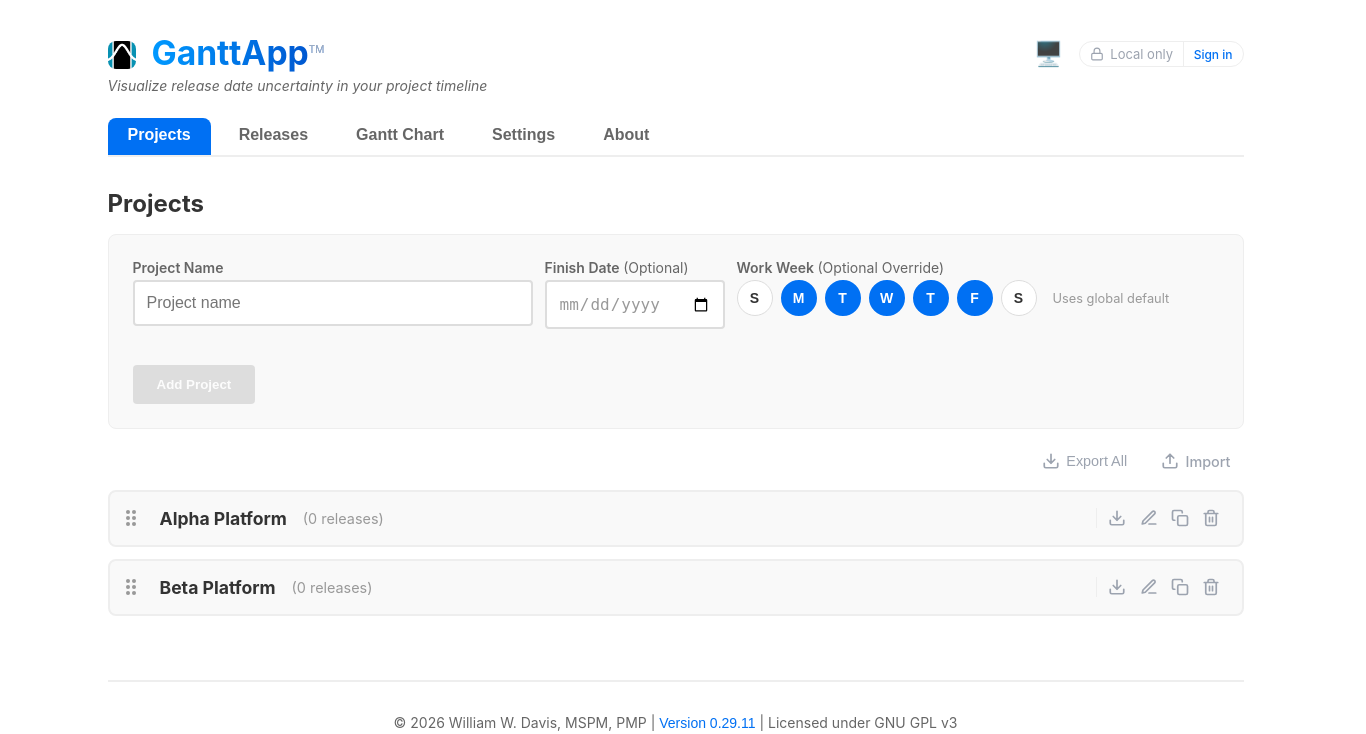
Test: the Projects tab when an import or a delete moves the selected project › keeps a draft in the new-project form when the selected project is deleted
The width and height of the screenshot is (1366, 734).
Check: the text "Alpha Platform" is shown, box top-left (160, 508), bottom-right (287, 529)
Type "Draft Gamma" into the field with placeholder "Project Name" at {"x": 332, "y": 303}, box top-left (132, 280), bottom-right (532, 326)
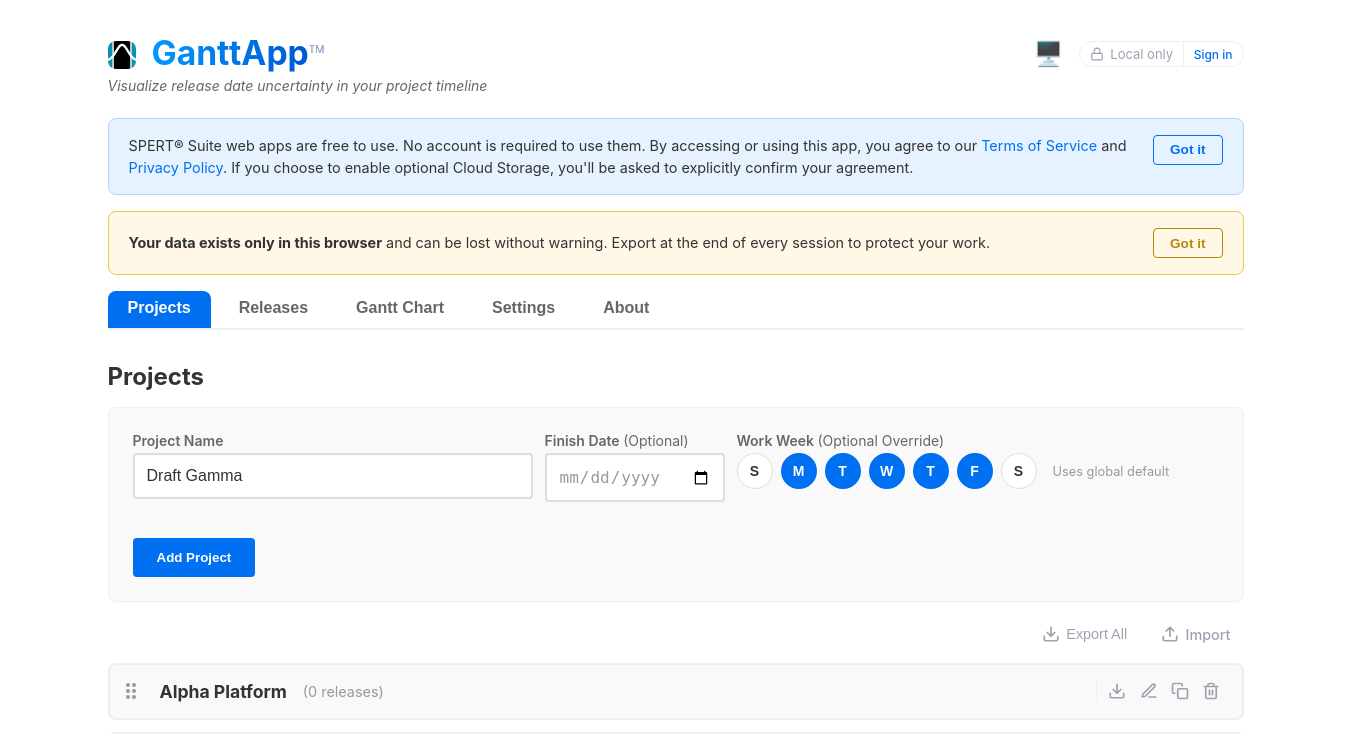
Click the 1st button named "Delete project" at {"x": 1211, "y": 691}, box top-left (1196, 677), bottom-right (1226, 706)
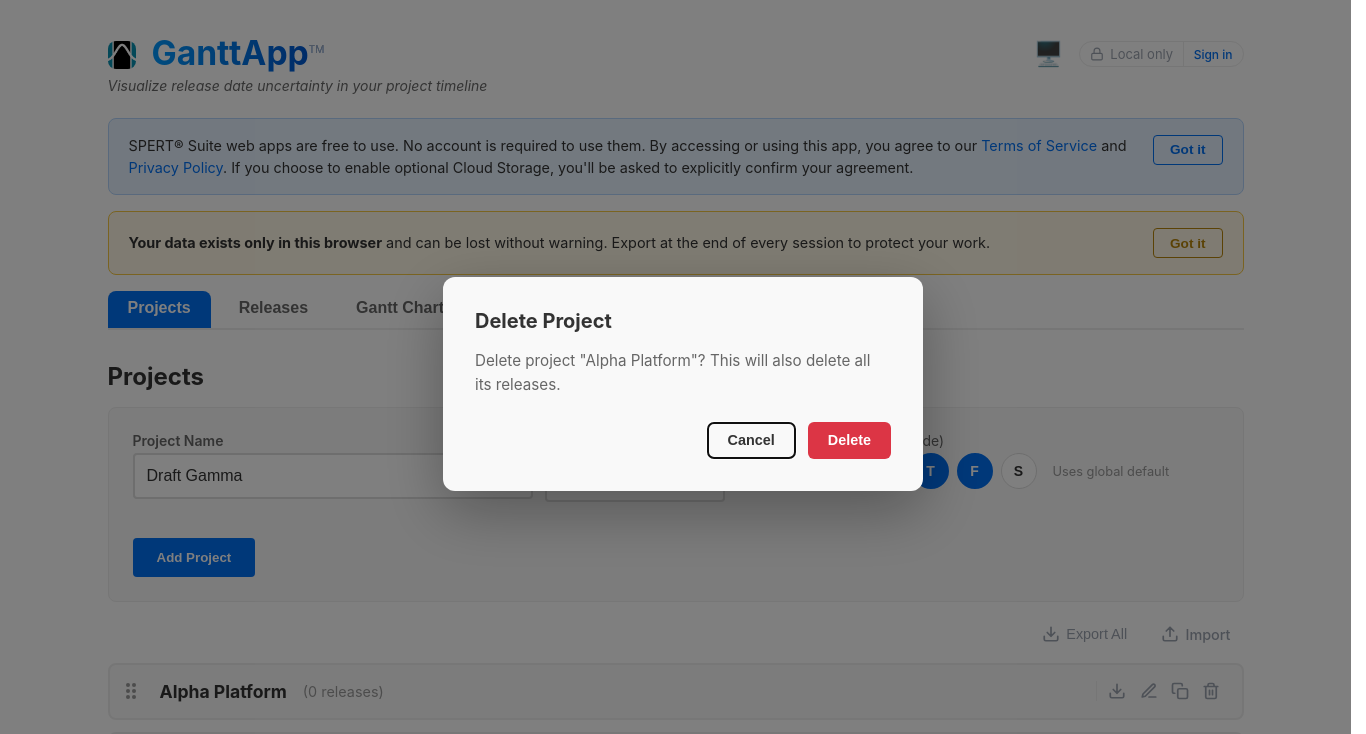
Click the button "Delete" at {"x": 849, "y": 440}, box top-left (808, 422), bottom-right (891, 459)
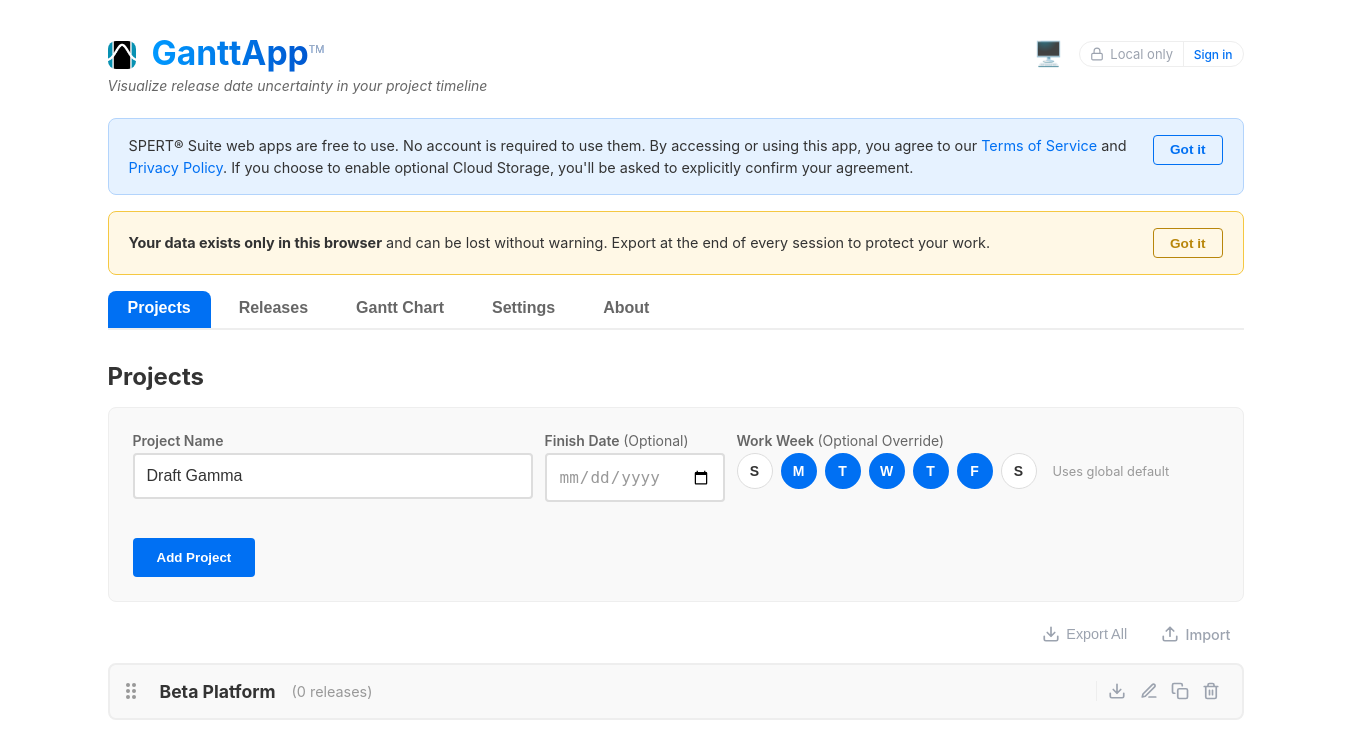
Check: the text "Beta Platform" is shown, box top-left (160, 681), bottom-right (276, 702)
Check: the button "Alpha Platform" is gone
